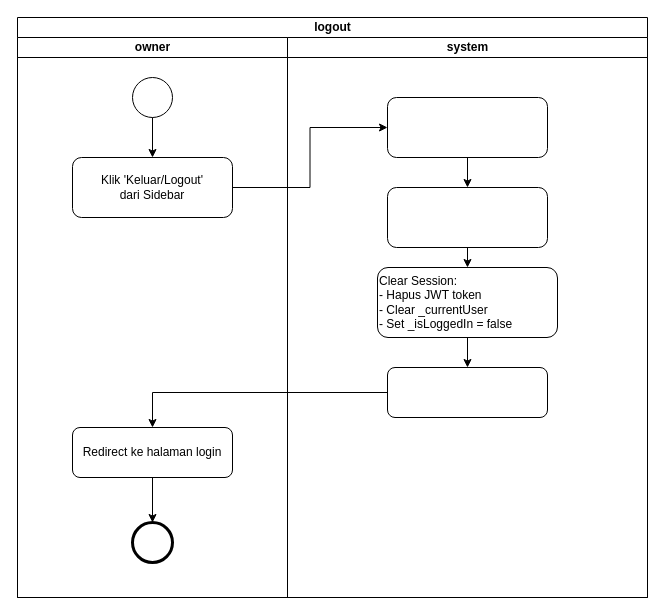
This 665x615 diagram has some shape labels left out. The centre of each missing label's shape, as x and y in pixels:
"AppRoutes.logout(context)" belongs at pixel 467 127.
"AuthService().logout() (Supabase sign out)" belongs at pixel 467 217.
"AuthService.logActivity() (catat logout ke activity_logs)" belongs at pixel 467 392.
